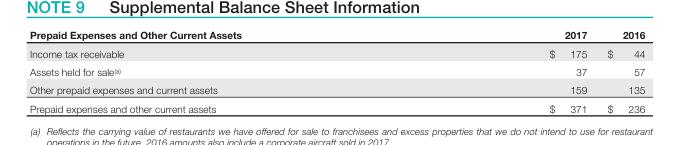table: (28, 28, 644, 113)
table column: (28, 28, 394, 113), (394, 28, 596, 113), (596, 28, 644, 113)
table column header: (28, 28, 644, 44)
table row: (28, 44, 644, 62), (28, 62, 644, 80), (28, 80, 644, 98), (28, 28, 644, 44), (28, 98, 644, 113)
